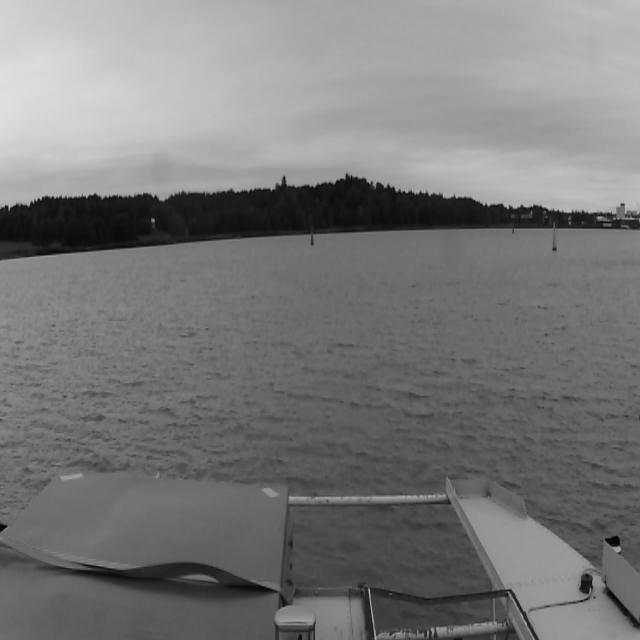buoy: (551, 220, 559, 252), (310, 228, 314, 246), (511, 223, 515, 234)
